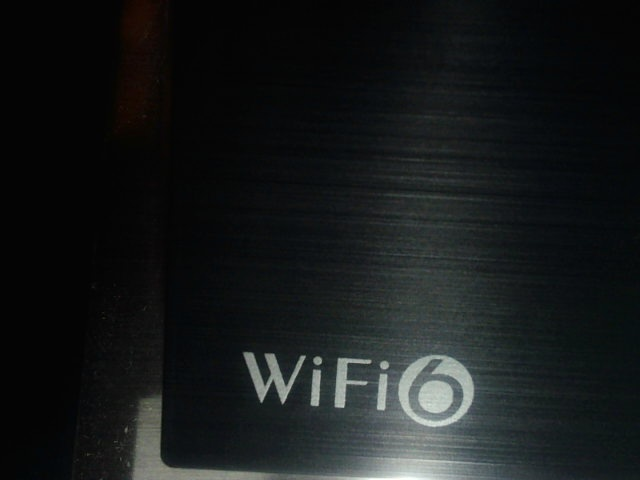AK_ZTEWIFI6Black: (230, 337, 488, 436)
